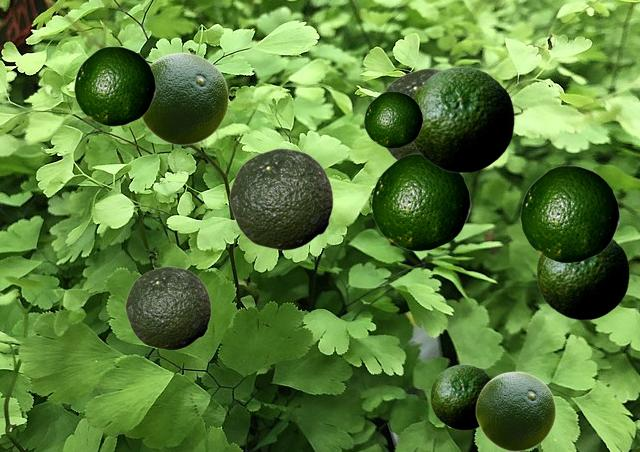calamansi: (413, 66, 513, 172), (229, 148, 332, 249), (371, 153, 470, 250), (520, 165, 619, 262), (141, 52, 228, 144), (536, 239, 628, 319), (125, 266, 210, 349), (74, 46, 155, 125), (475, 371, 555, 450), (384, 68, 441, 159), (430, 364, 490, 429), (364, 91, 422, 147)
